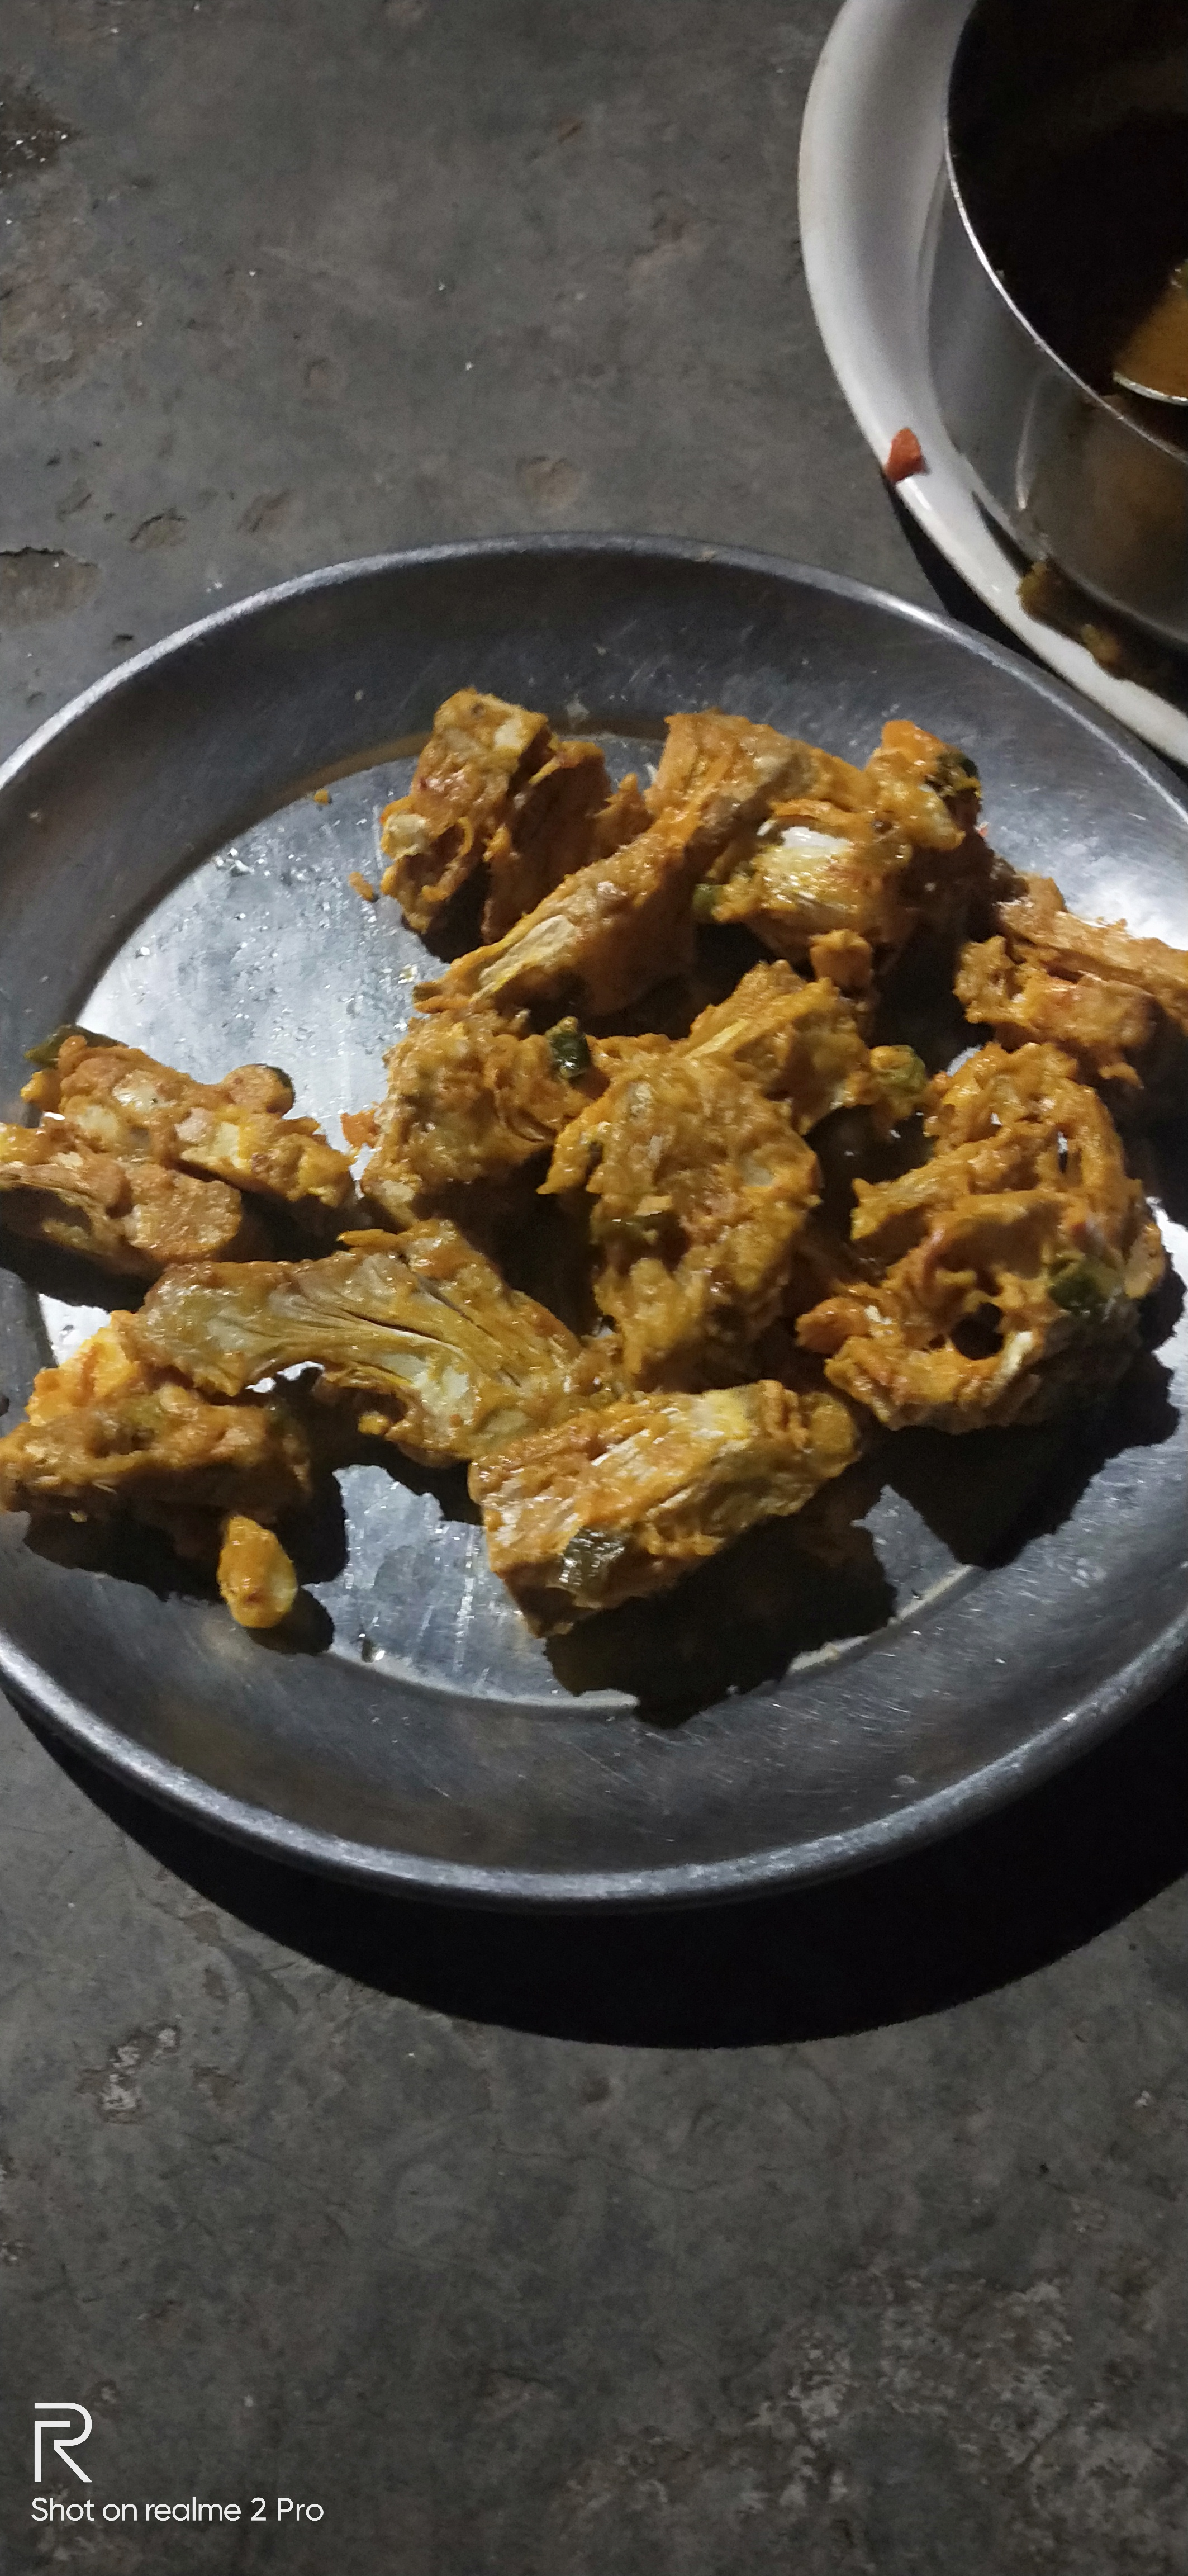food: (3, 674, 1188, 1641), (940, 0, 1188, 447)
